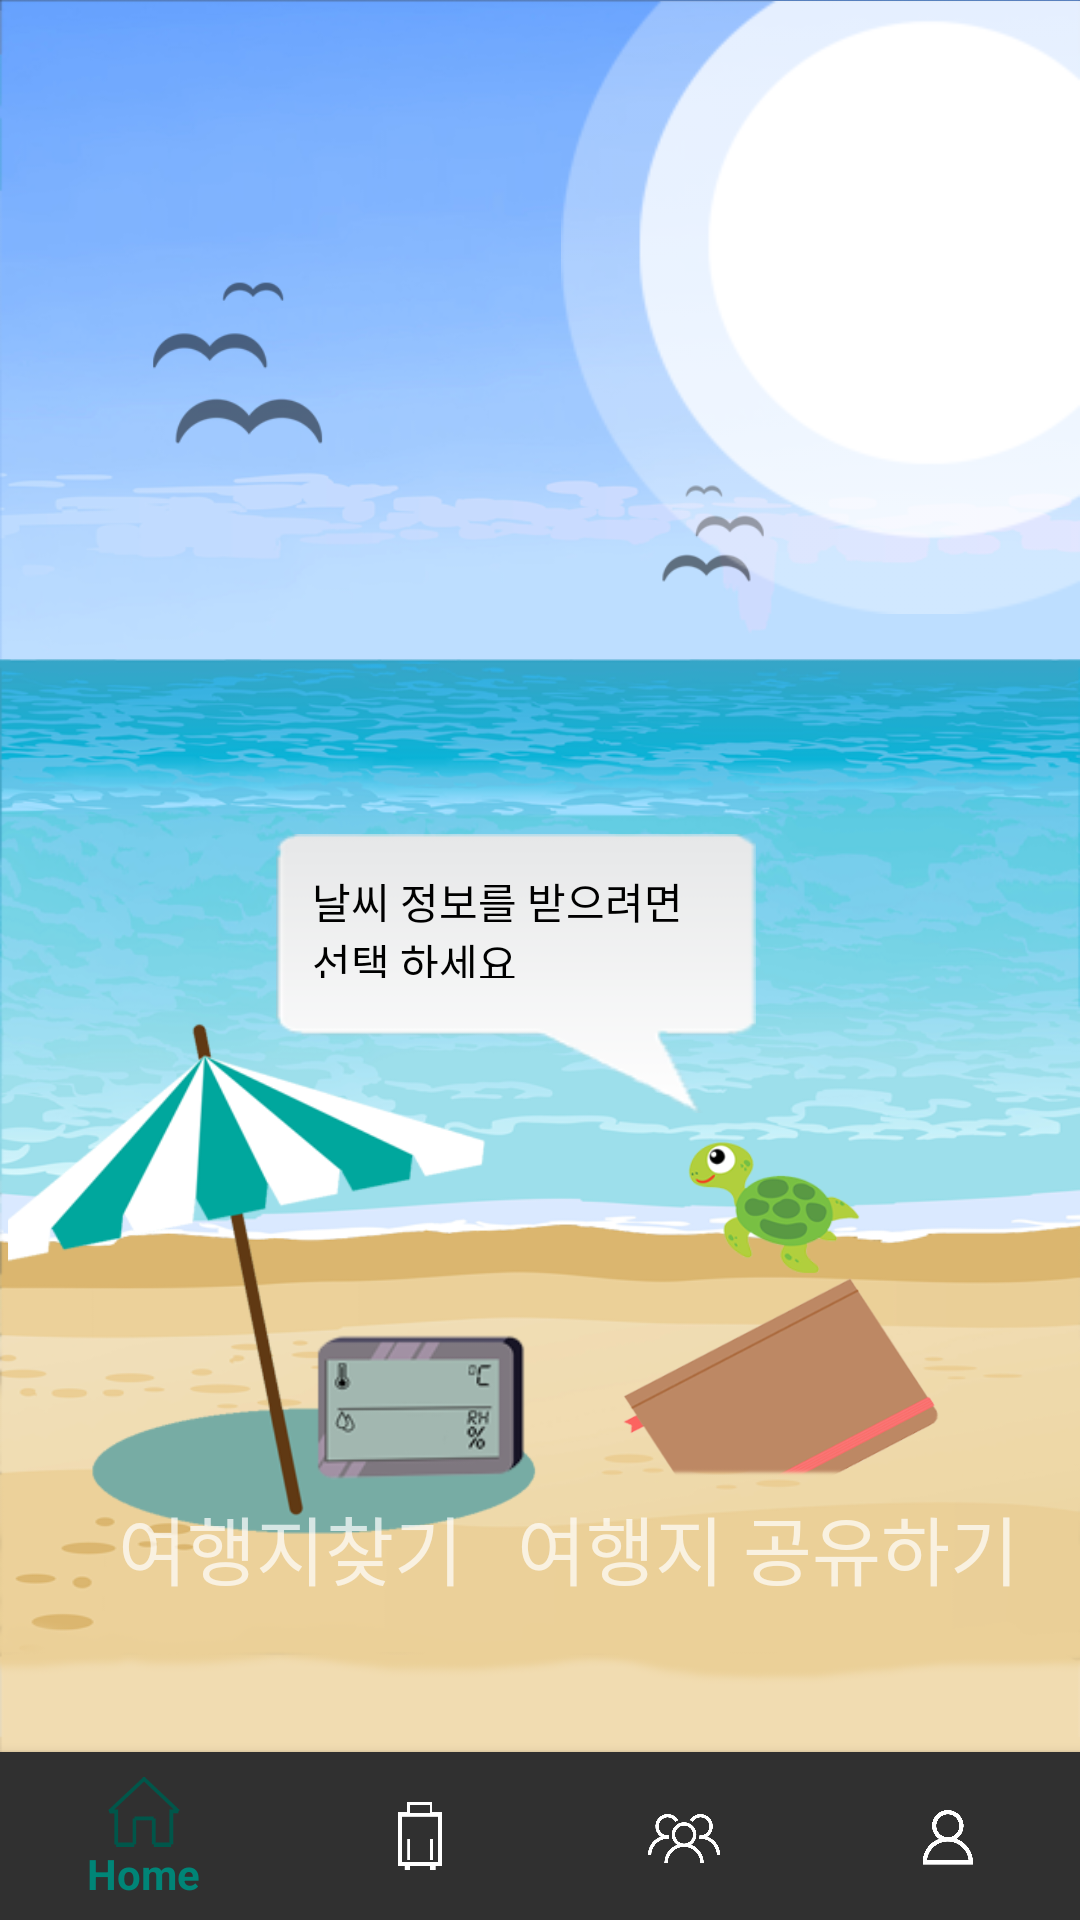

Where to tap for icons on this 1080×1920 app screen, as point (x, y):
tutle: point (775, 1207)
